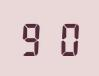nine: (19, 20, 48, 56)
zero: (49, 20, 78, 56)
